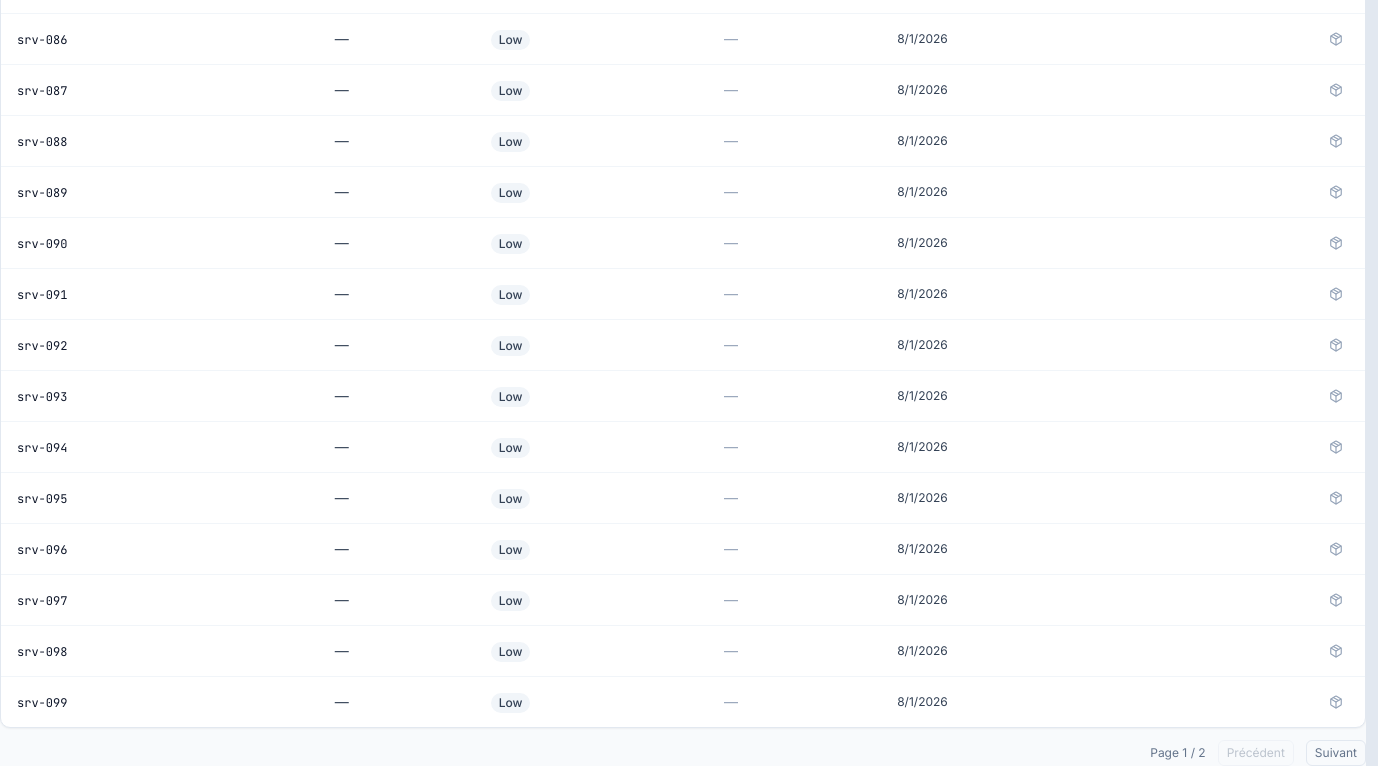
Test case: AssetsTable › pagine au-delà de 100 lignes
The width and height of the screenshot is (1378, 766).
(page scrolled)
Expected: the text "Page 1 / 2" is shown, [1150,745,1206,761]
Click the button with aria-label "Page suivante" at (1336,753), box [1306,740,1366,765]
(page scrolled)
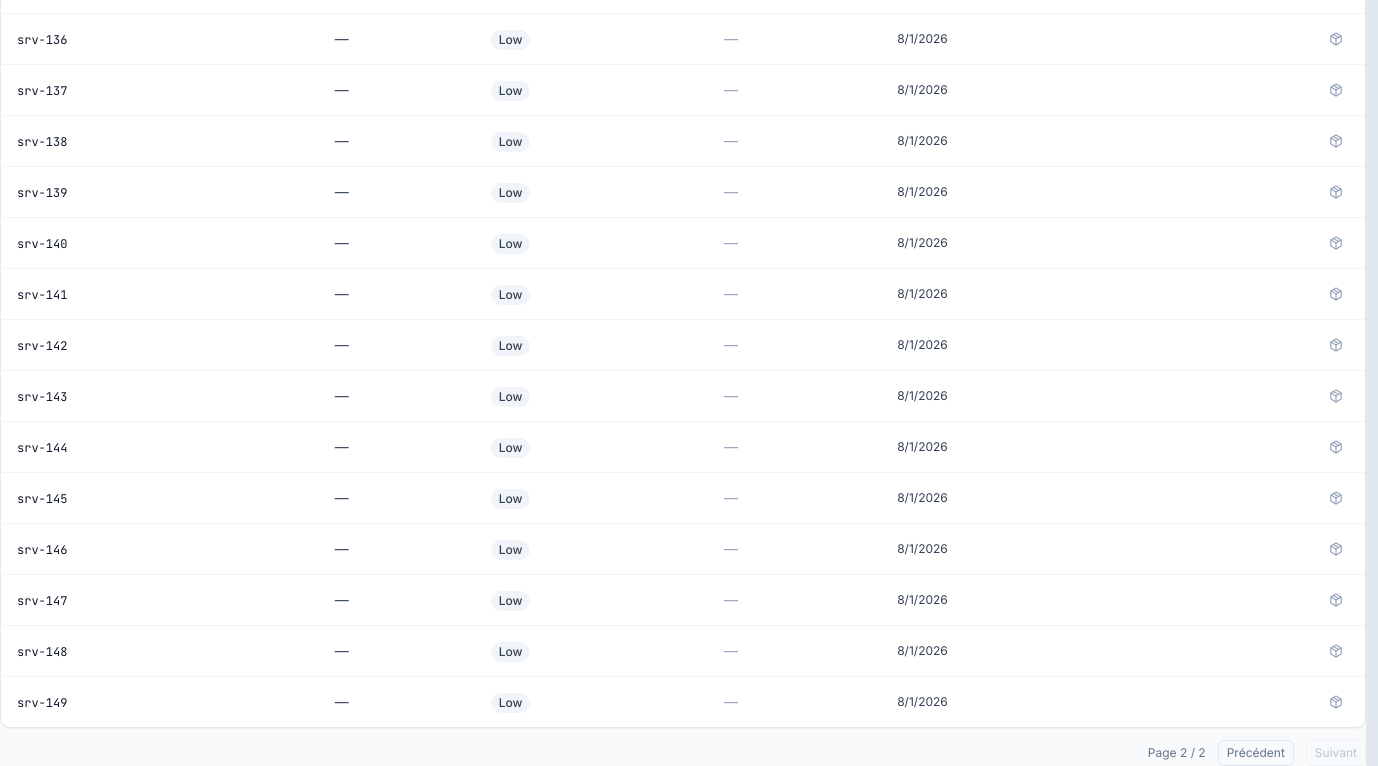
Expected: the text "Page 2 / 2" is shown, [1148,745,1206,761]
